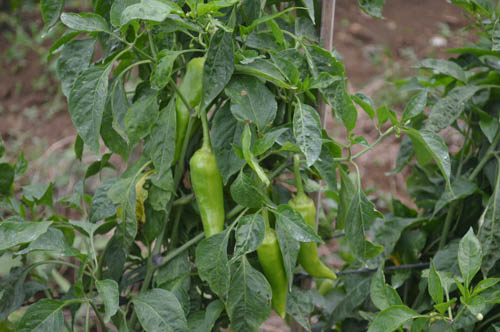ChiliPepper: (165, 57, 210, 160), (292, 199, 337, 288), (189, 154, 225, 242), (256, 235, 289, 320)
